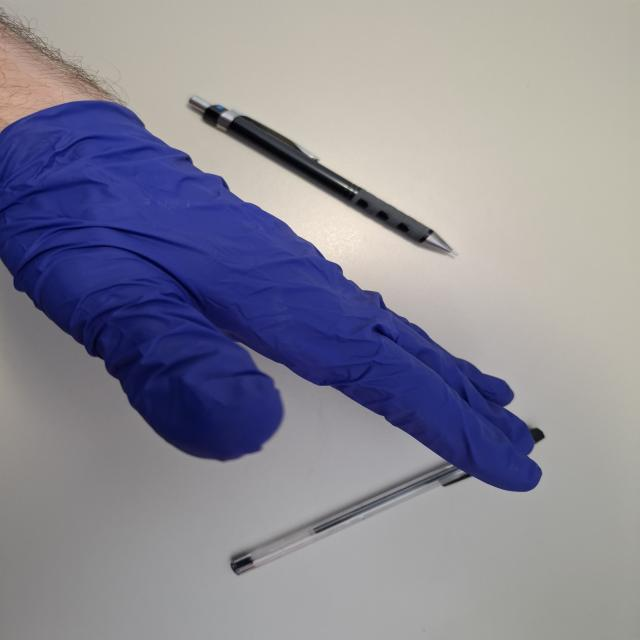glove_on: (0, 99, 546, 496)
